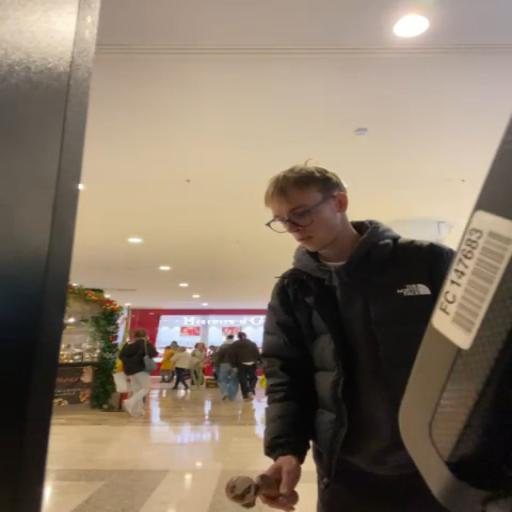kendama_ball: (225, 475, 256, 504)
